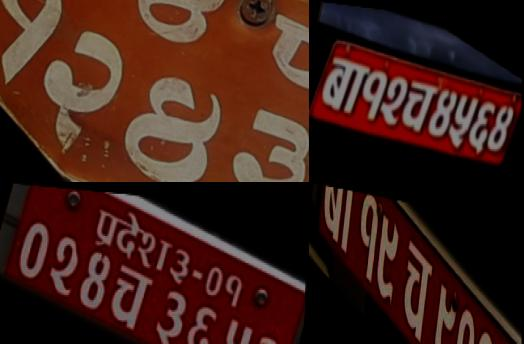0: (11, 211, 57, 287), (450, 289, 481, 344), (199, 254, 228, 299), (470, 313, 498, 344)
1: (0, 0, 77, 107), (350, 189, 384, 290), (356, 58, 388, 129), (218, 265, 248, 310)
2: (22, 1, 139, 167), (40, 225, 88, 304), (376, 60, 411, 131), (488, 331, 520, 344)
3: (214, 91, 309, 182), (147, 278, 194, 344), (164, 240, 196, 286), (242, 320, 287, 344)
4: (110, 42, 244, 182), (119, 0, 248, 59), (74, 243, 118, 320), (426, 72, 459, 144), (486, 88, 517, 158)
5: (447, 80, 478, 153), (212, 304, 259, 344)
6: (466, 81, 499, 158), (180, 292, 226, 344)
9: (372, 201, 406, 312), (429, 264, 462, 344)
ba: (318, 38, 370, 126), (316, 183, 360, 263)
cha: (396, 225, 436, 344), (102, 257, 158, 338), (399, 63, 440, 142)
pa: (240, 0, 309, 128)
